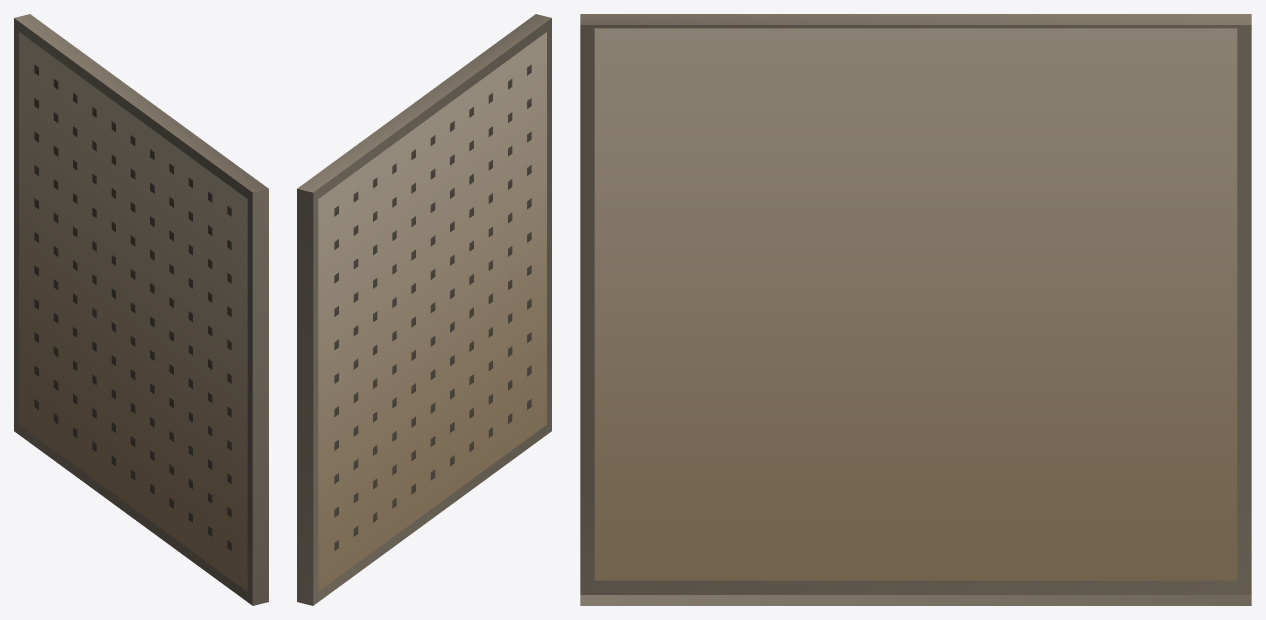
Rendered from WallStand_Short.fbx.
3 renders of one model, left to right at view 1: azimuth 30°, elevation 25°; view 2: azimuth 150°, elevation 25°; view 3: azimuth 270°, elevation 25°, orthographic. The views are drawn at different scales.
Visible parts, largest first — view 1: WallStand_Short, WallStand_Short_Holes; view 2: WallStand_Short, WallStand_Short_Holes; view 3: WallStand_Short.
Part boxes in pixels (x1=…): WallStand_Short: x1=14, y1=14, x2=268, y2=605; WallStand_Short_Holes: x1=34, y1=64, x2=231, y2=550; WallStand_Short: x1=297, y1=14, x2=551, y2=605; WallStand_Short_Holes: x1=334, y1=64, x2=531, y2=550; WallStand_Short: x1=580, y1=14, x2=1251, y2=605.
Bounding box in the file's own units: 9.87 × 235 × 246.
